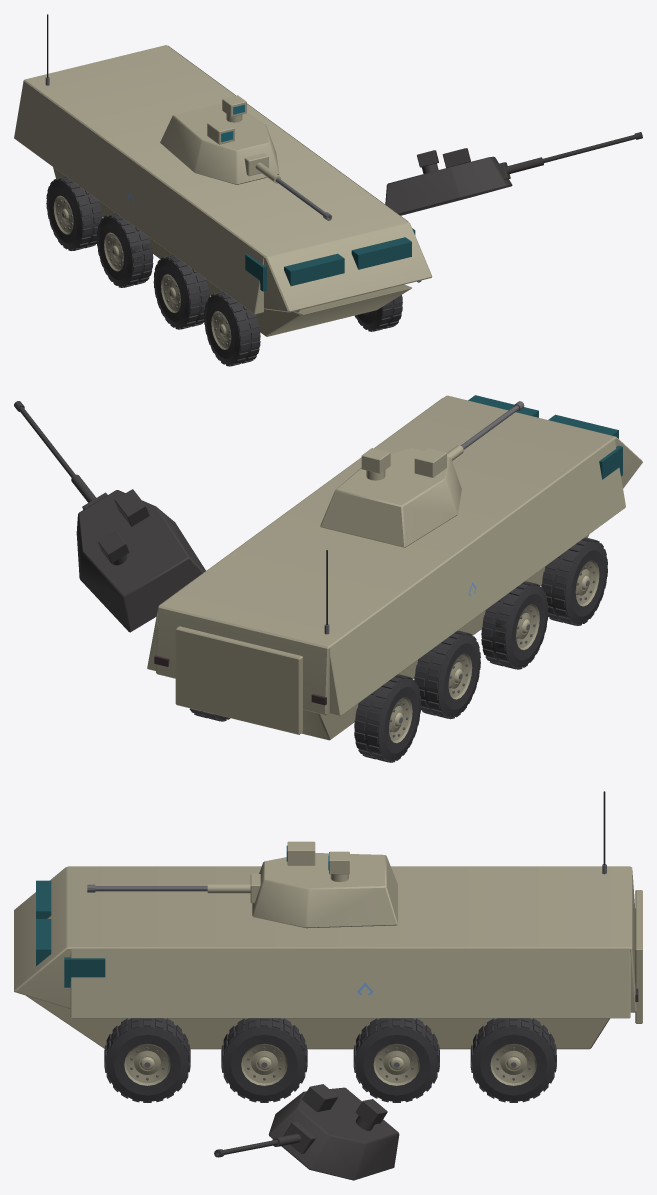
File: apc__pars.glb
3 views of the same model, one above another, from view 1: azimuth 30°, elevation 25°; view 2: azimuth 150°, elevation 25°; view 3: azimuth 270°, elevation 25° (orthographic). The views are drawn at different scales.
Parts seen in each view (by area): view 1: Hull_Mesh, Turret_Mesh, Wreck, Wheel_L3_Mesh, Wheel_L1_Mesh, Wheel_L2_Mesh, Wheel_L0_Mesh, Wheel_R3_Mesh, Gun_Mesh; view 2: Hull_Mesh, Wreck, Turret_Mesh, Wheel_L0_Mesh, Wheel_L2_Mesh, Wheel_L1_Mesh, Wheel_L3_Mesh, Gun_Mesh; view 3: Hull_Mesh, Turret_Mesh, Wreck, Wheel_R1_Mesh, Wheel_R0_Mesh, Wheel_R2_Mesh, Wheel_R3_Mesh, Gun_Mesh.
Part boxes in pixels (<box>): Hull_Mesh: <box>14,14,432,336</box>; Turret_Mesh: <box>160,95,279,184</box>; Wreck: <box>61,132,642,360</box>; Wheel_L3_Mesh: <box>204,292,260,366</box>; Wheel_L1_Mesh: <box>96,213,153,287</box>; Wheel_L2_Mesh: <box>153,255,209,329</box>; Wheel_L0_Mesh: <box>46,176,102,250</box>; Wheel_R3_Mesh: <box>355,295,402,331</box>; Gun_Mesh: <box>244,153,331,220</box>; Hull_Mesh: <box>147,395,642,740</box>; Wreck: <box>14,401,587,761</box>; Turret_Mesh: <box>320,448,461,547</box>; Wheel_L0_Mesh: <box>354,674,421,762</box>; Wheel_L2_Mesh: <box>481,581,548,669</box>; Wheel_L1_Mesh: <box>414,630,480,719</box>; Wheel_L3_Mesh: <box>541,537,607,625</box>; Gun_Mesh: <box>447,401,524,460</box>; Hull_Mesh: <box>14,791,642,1049</box>; Turret_Mesh: <box>252,841,397,928</box>; Wreck: <box>121,1066,487,1180</box>; Wheel_R1_Mesh: <box>353,1018,439,1102</box>; Wheel_R0_Mesh: <box>470,1018,556,1102</box>; Wheel_R2_Mesh: <box>221,1018,307,1102</box>; Wheel_R3_Mesh: <box>104,1018,190,1102</box>; Gun_Mesh: <box>87,874,260,903</box>.
Size of what is drawn, in the model's own units: 7.9 by 3.33 by 8.18.
